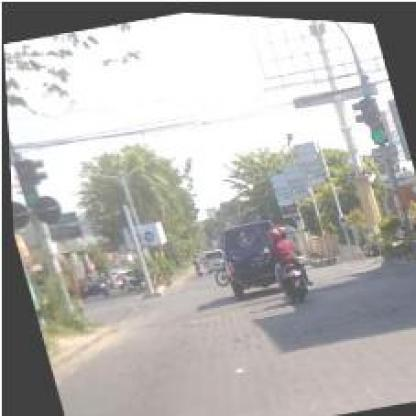green: (360, 92, 388, 139), (13, 157, 38, 206)
